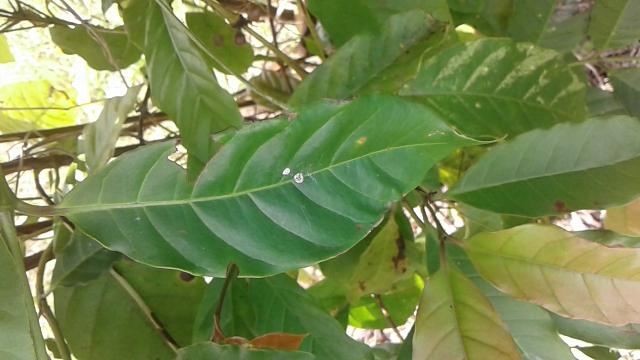rust_level_1: (55, 95, 469, 278)
